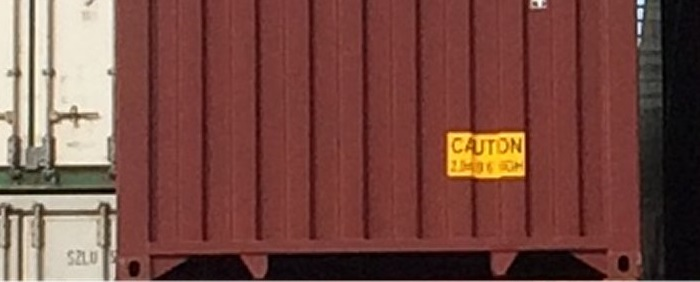container_no_door: (120, 1, 641, 278)
